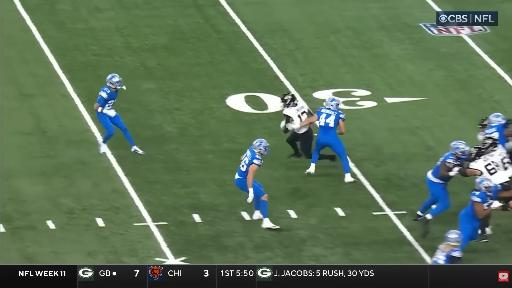Helmet: (449, 140, 470, 157), (475, 176, 494, 193), (482, 136, 498, 152), (252, 139, 269, 154), (445, 230, 462, 245), (281, 93, 297, 108), (107, 74, 122, 89), (470, 146, 485, 160), (488, 113, 506, 124), (325, 97, 340, 110)
Jersey: (468, 146, 511, 184), (428, 153, 465, 183), (460, 191, 493, 222), (316, 108, 345, 138), (236, 148, 262, 178), (283, 105, 309, 133), (484, 122, 509, 146), (432, 244, 462, 264), (97, 86, 118, 109)
Player: (414, 141, 470, 237), (300, 97, 355, 182), (94, 74, 144, 154), (235, 139, 279, 229), (459, 176, 501, 249), (459, 137, 511, 184), (281, 93, 313, 159), (484, 113, 511, 153), (431, 231, 462, 264), (478, 118, 488, 141)
